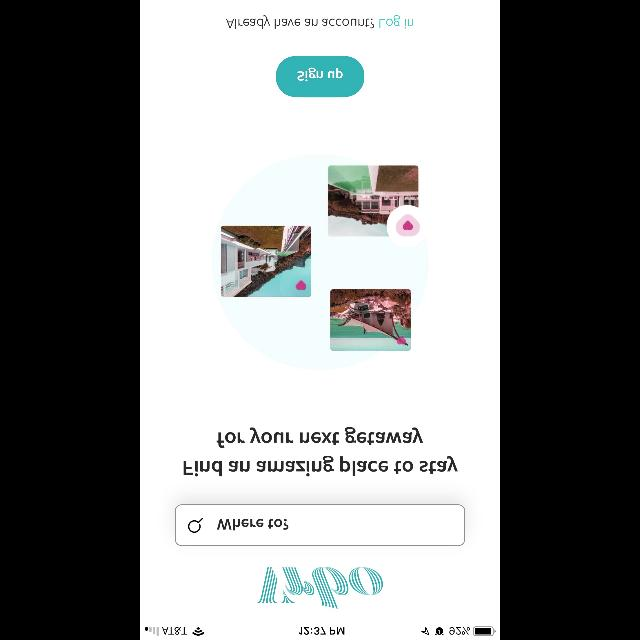icon: (188, 518, 204, 532)
image: (212, 153, 428, 370), (257, 566, 383, 608)
input: (175, 504, 465, 546)
text: (184, 428, 458, 477), (226, 15, 414, 29), (217, 518, 289, 530)
textbutton: (276, 56, 364, 98)
uppertaskbar: (140, 626, 500, 640)
